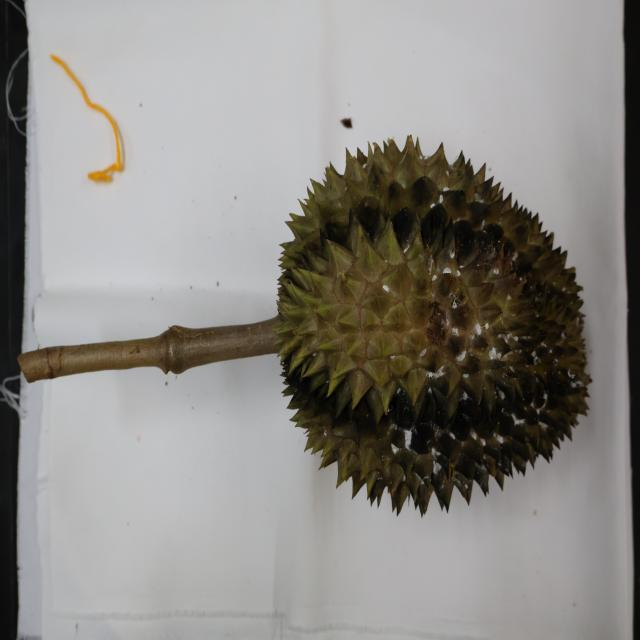defective: (277, 132, 592, 515)
